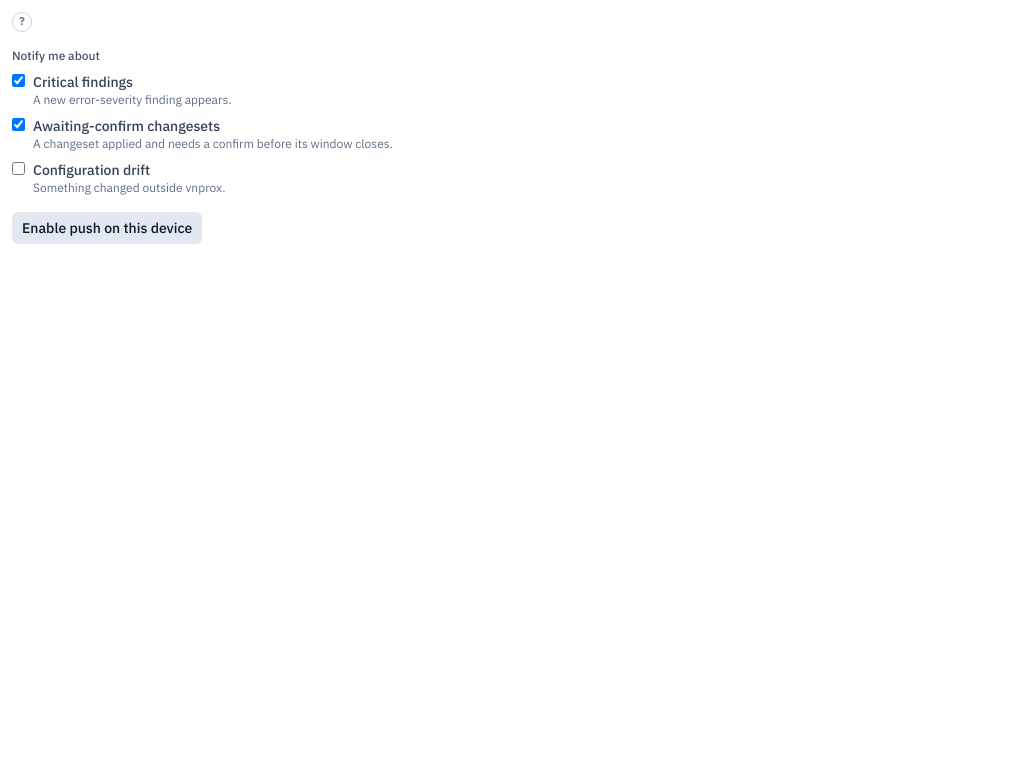
Scenario: PushSettingsSection › enables push with the selected categories and remembers the returned subscription id
expect the text "Critical findings" is shown: met, box [33,73,133,91]
# Drift is unchecked by default (only critical + awaitingConfirm are).
Click the checkbox labelled "Configuration drift Something changed outside vnprox." at (18, 168), box [12,162,25,175]
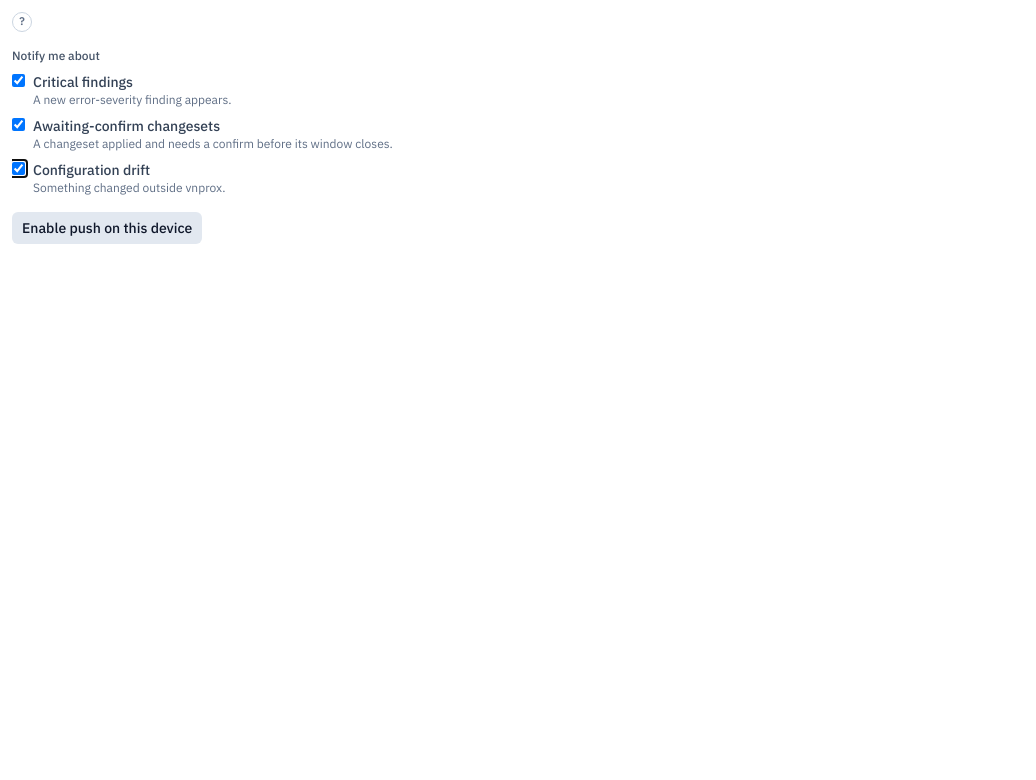
Click the button "Enable push on this device" at (107, 228), box [12,212,202,244]
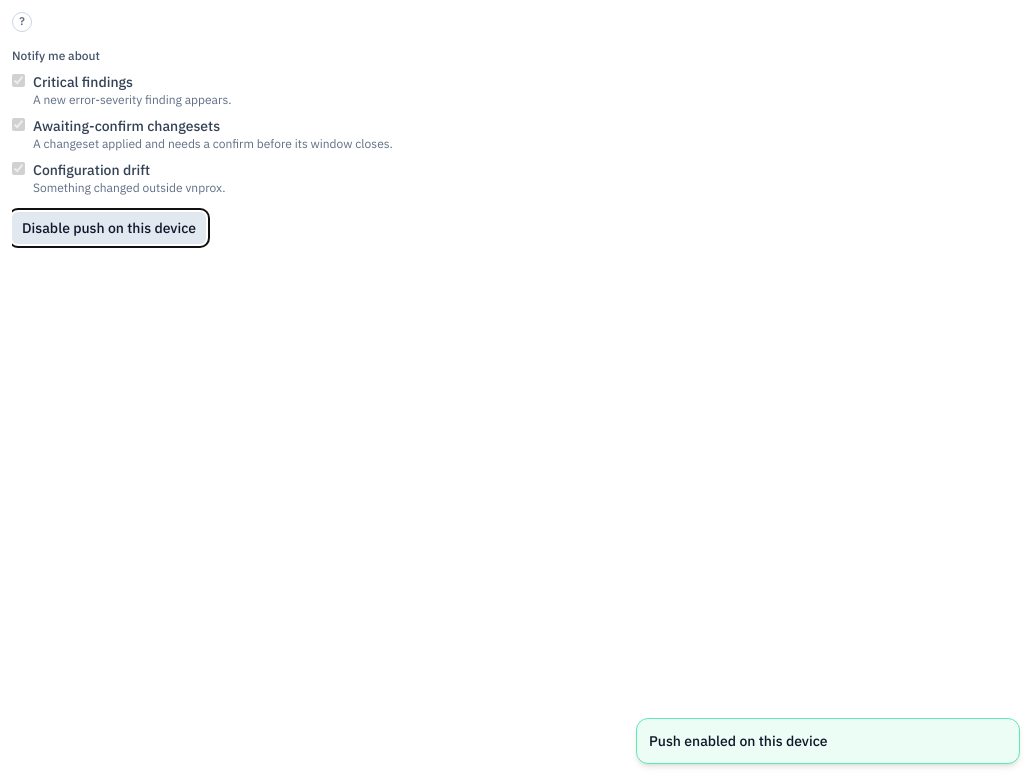
expect the button "Disable push on this device" is shown: met, box [12,212,206,244]
